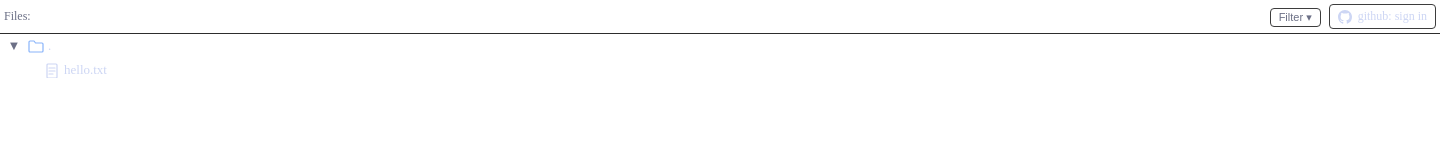
Test: FileTree readOnly / features › shows mutating context menu items when writable
Right-click the text "hello.txt".
right_click(86, 70)  # box [64,62,107,78]
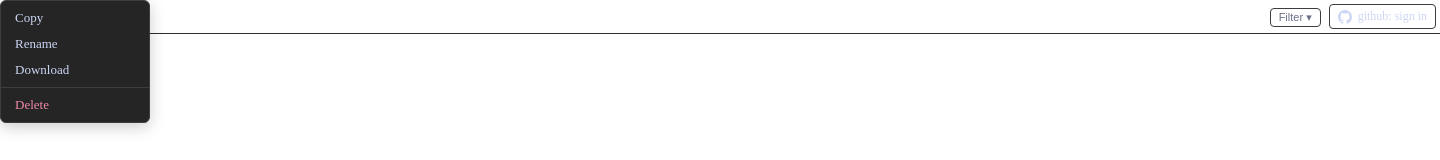
expect the text "Rename" is shown: met, box [15,36,58,51]
expect the text "Delete" is shown: met, box [15,97,49,112]
